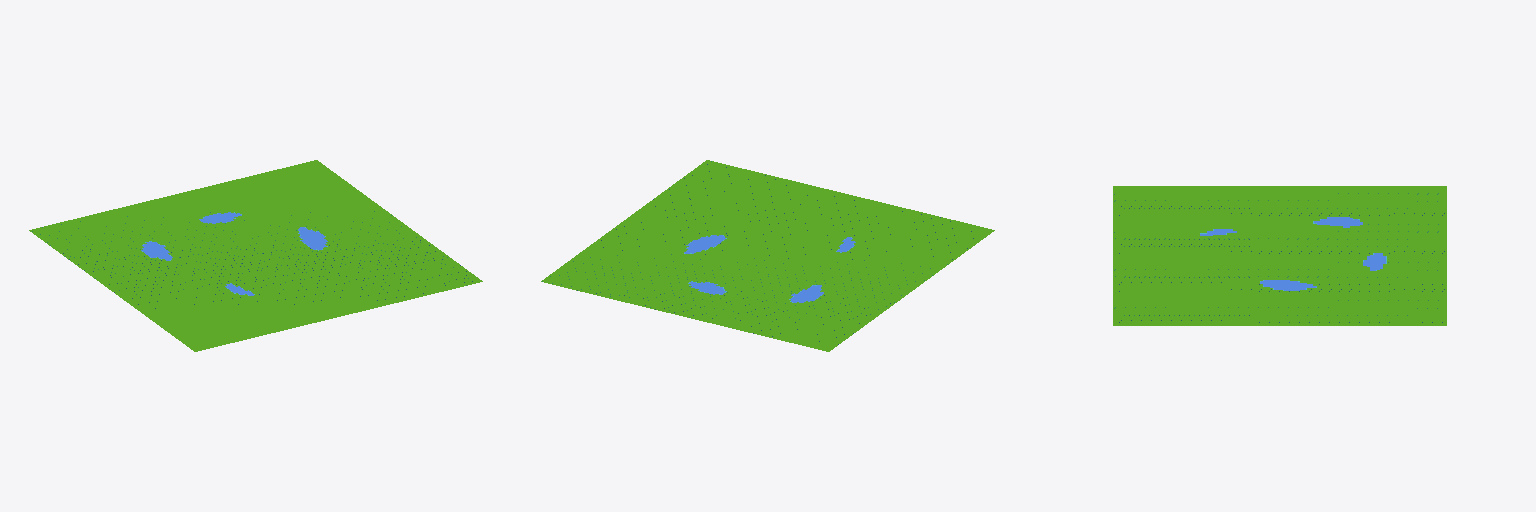
3 views of the same model, side by side, from view 1: azimuth 30°, elevation 25°; view 2: azimuth 150°, elevation 25°; view 3: azimuth 270°, elevation 25° (orthographic).
Visible parts, largest first — view 1: Cube; view 2: Cube; view 3: Cube.
Boxes of the visible parts, <box> form: Cube: <box>29,160,482,351</box>; Cube: <box>541,160,994,351</box>; Cube: <box>1113,186,1446,325</box>.
Bounding box in the file's own units: 100 × 0 × 100.
Materials: 1 (1 with a texture image).